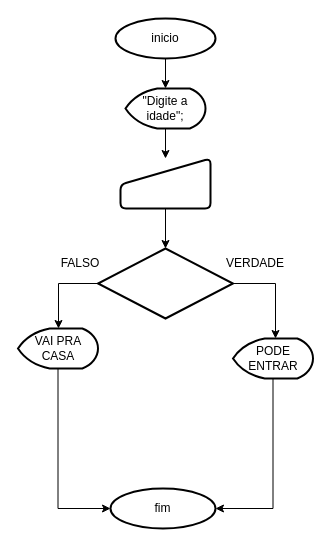
Some shapes in this 331 by 546 pixel diagram are drawn without their labels. Each missing label, with the centre of its shape:
"IDADE" goes at (x=165, y=183).
"IDADE=.>18" goes at (x=165, y=283).
